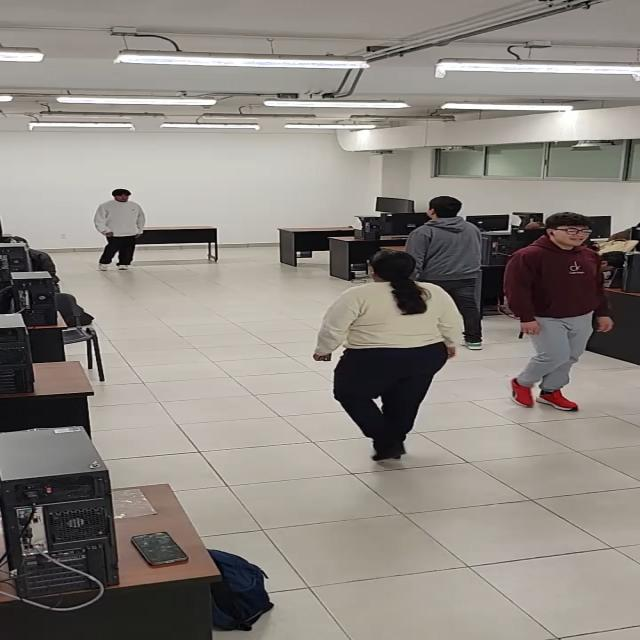Persona: (312, 249, 464, 462), (504, 212, 615, 413), (400, 196, 494, 351), (93, 189, 147, 272)
